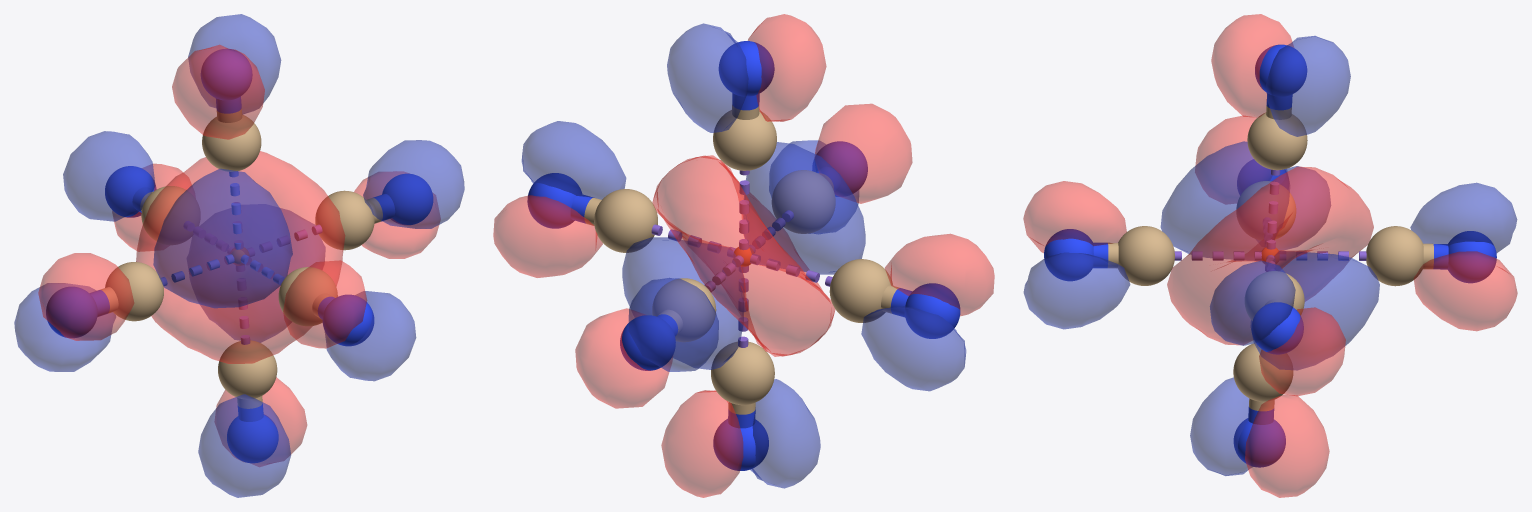
3 views of the same model, side by side, from view 1: azimuth 30°, elevation 25°; view 2: azimuth 150°, elevation 25°; view 3: azimuth 270°, elevation 25° (orthographic). The views are drawn at different scales.
Visible parts, largest first — view 1: surface, surface.001, C atoms, O atoms, pbonds, O bonds, C bonds; view 2: surface, surface.001, C atoms, O atoms, pbonds, O bonds, C bonds; view 3: surface, surface.001, C atoms, O atoms, pbonds, O bonds, C bonds.
Boxes of the visible parts, x1,y1,x2,y2 form: surface: [38, 44, 440, 466]; surface.001: [14, 14, 464, 497]; C atoms: [105, 115, 374, 399]; O atoms: [46, 49, 432, 462]; pbonds: [161, 171, 322, 344]; O bonds: [89, 96, 394, 421]; C bonds: [100, 108, 382, 408]; surface: [493, 14, 994, 497]; surface.001: [521, 23, 966, 488]; C atoms: [594, 110, 893, 405]; O atoms: [527, 41, 960, 470]; pbonds: [651, 170, 832, 347]; O bonds: [570, 93, 912, 428]; C bonds: [584, 105, 899, 414]; surface: [1023, 14, 1517, 497]; surface.001: [1023, 36, 1517, 475]; C atoms: [1118, 112, 1423, 401]; O atoms: [1044, 44, 1496, 467]; pbonds: [1174, 169, 1366, 270]; O bonds: [1093, 93, 1448, 424]; C bonds: [1108, 105, 1433, 411].
Bounding box in the file's own units: 7.75 × 7.74 × 7.73.
